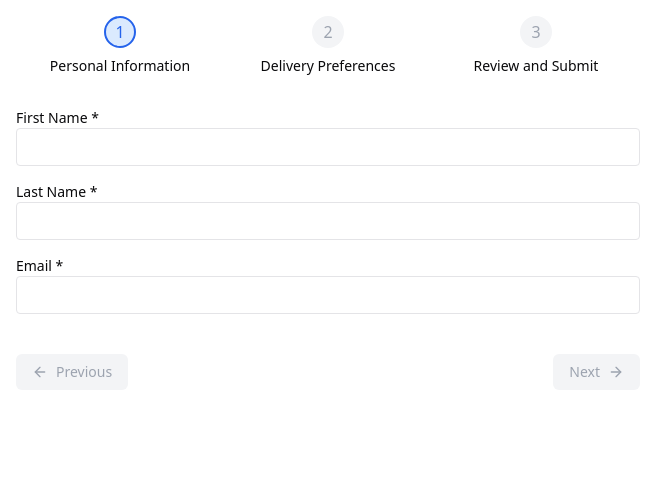
Test: RegistrationForm › Form Validation › should validate delivery preferences
The width and height of the screenshot is (657, 478).
Type "John" into the field labelled "First Name *".
click(328, 147); type("John")  # box [16,128,640,166]
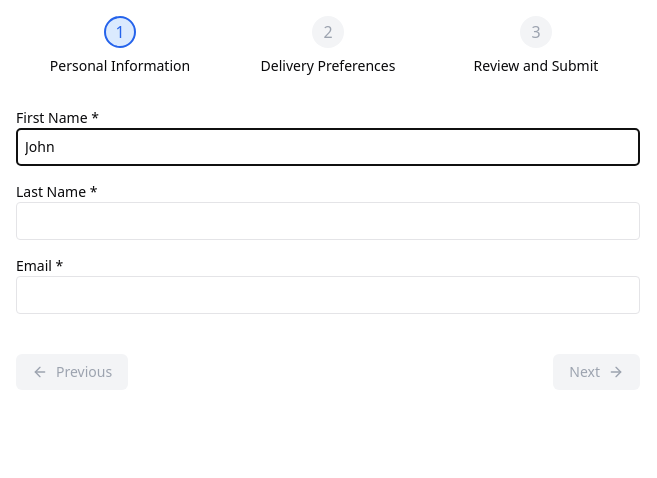
Type "Doe" into the field labelled "Last Name *".
click(328, 221); type("Doe")  # box [16,202,640,240]
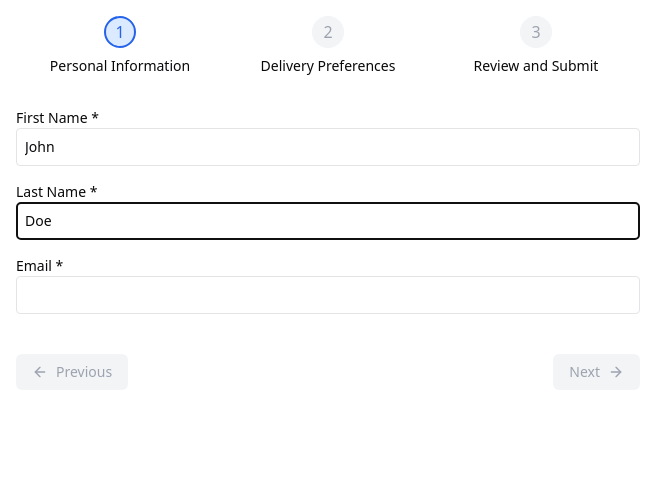
Type "john@example.com" into the field labelled "Email *".
click(328, 295); type("john@example.com")  # box [16,276,640,314]
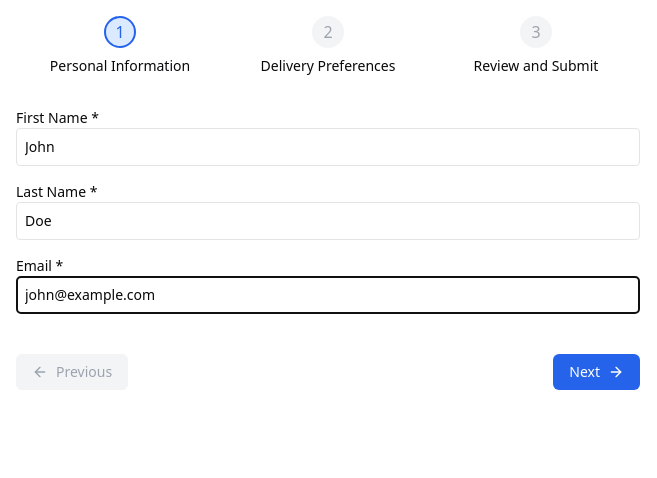
Click the button with test id "nextButton".
click(597, 372)  # box [553,354,640,390]
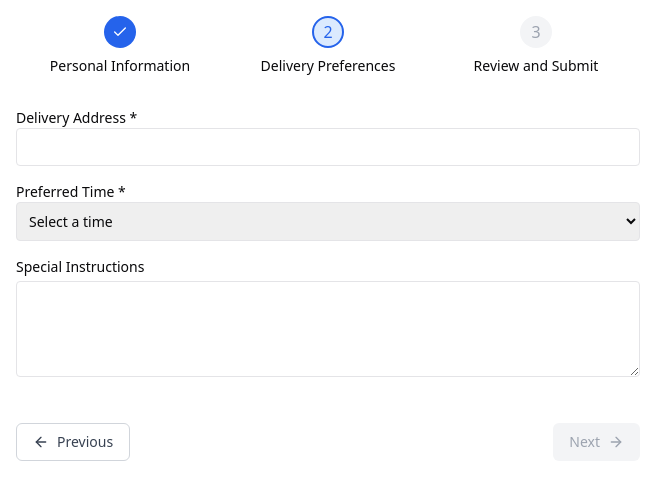
Check: the button "Next" is disabled, box [553,423,640,461]
